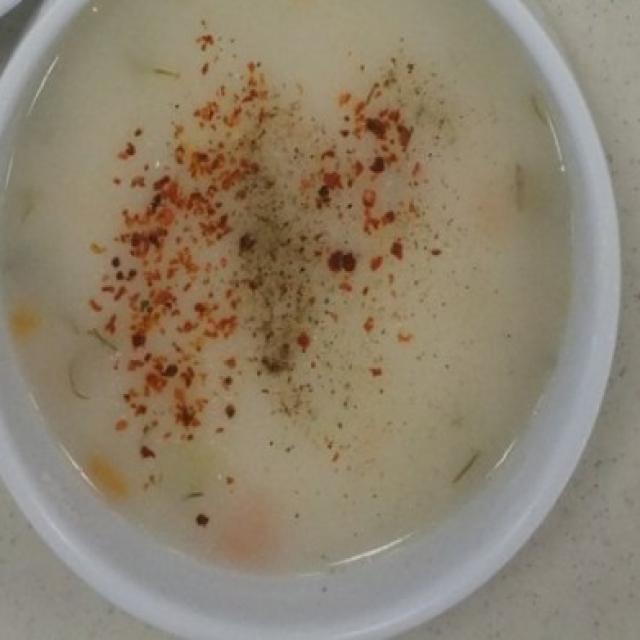corba: (0, 0, 624, 638)
